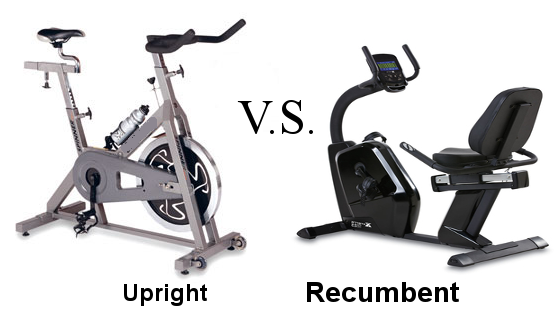gym_bike: (13, 22, 256, 284), (299, 43, 552, 279)
